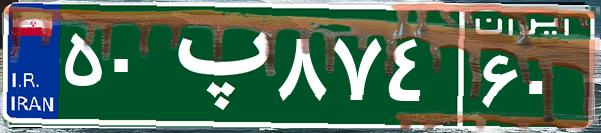0: (110, 28, 158, 105), (525, 38, 570, 115)
4: (385, 28, 445, 110)
5: (57, 26, 110, 107)
6: (475, 38, 525, 113)
7: (330, 28, 385, 110)
8: (273, 28, 330, 110)
پ: (158, 15, 273, 115)
